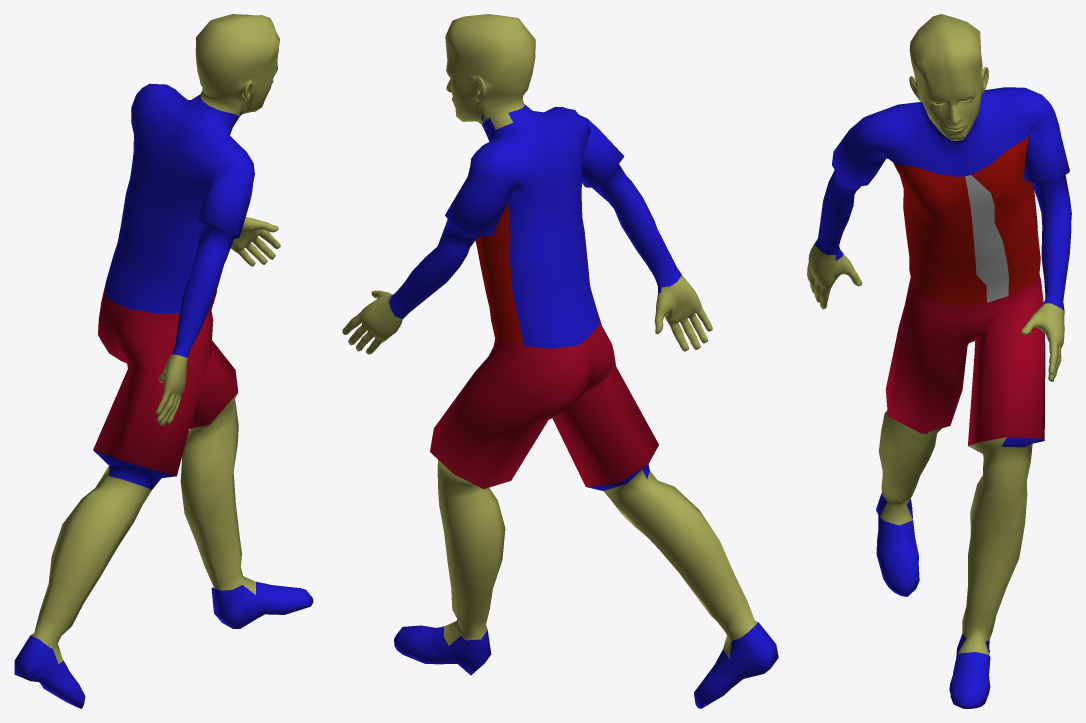
The model's file is player_000010.obj.
3 renders of one model, left to right at view 1: azimuth 30°, elevation 25°; view 2: azimuth 150°, elevation 25°; view 3: azimuth 270°, elevation 25°, orthographic. The views are drawn at different scales.
Visible parts, largest first — view 1: soccerplayer_mesh; view 2: soccerplayer_mesh; view 3: soccerplayer_mesh.
Boxes of the visible parts, <box> form: soccerplayer_mesh: <box>14,14,313,708</box>; soccerplayer_mesh: <box>342,14,778,708</box>; soccerplayer_mesh: <box>807,14,1071,708</box>.
Size of the model in its own units: 2.92 by 5.22 by 1.89.
